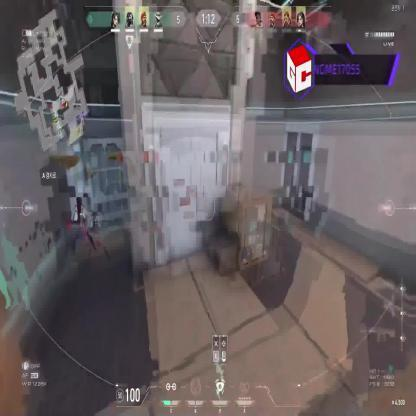enemy: (65, 196, 97, 258)
enemy_head: (76, 196, 82, 214)
